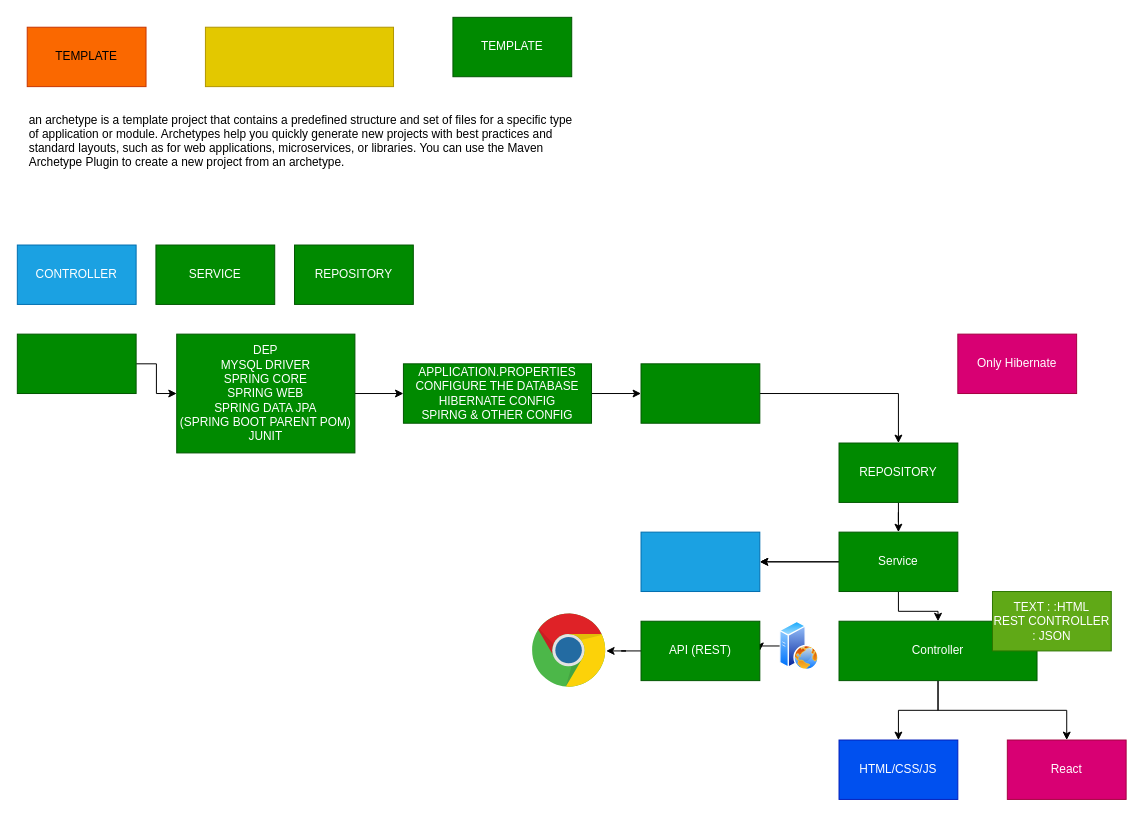
Image size: 1143x817. Some labels were removed from this diagram. Each missing label, with the box of its shape:
Apache Tomcat: (779, 621, 819, 670)
CORE JAVA SPRING APPS APACHE STRUTS HIBERANTE PROJECT: (204, 26, 394, 87)
ENTITY USED ANNOTATIONS: (640, 363, 760, 423)
Java APP: (640, 531, 760, 592)
SETUP MAVEN PROJECT: (16, 333, 136, 394)
